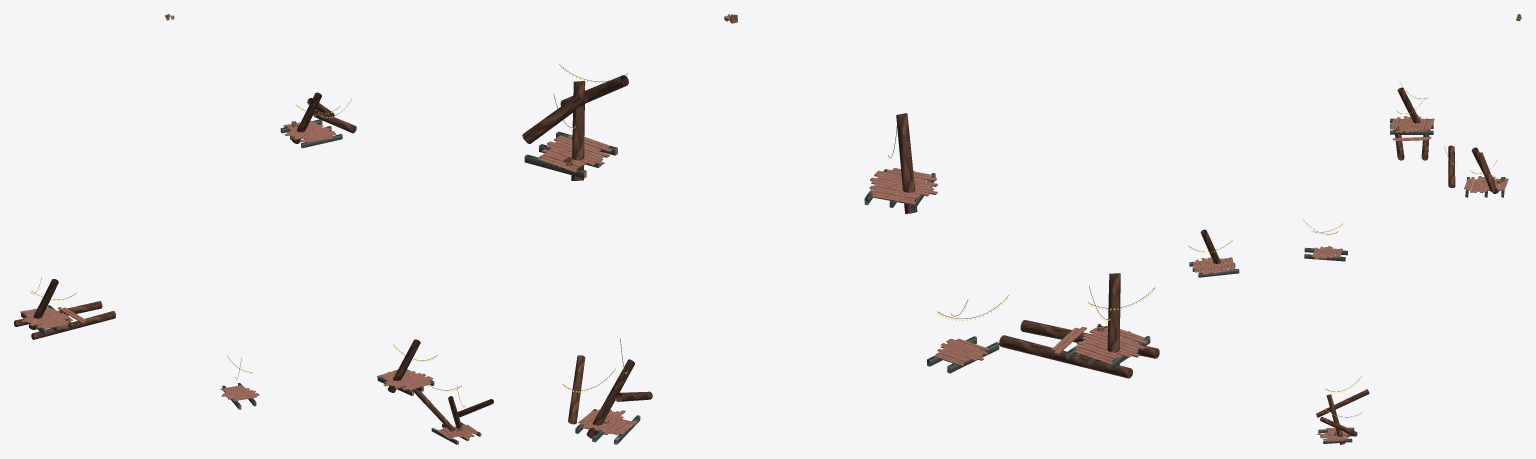
The model's file is Other.glb.
3 views of the same model, side by side, from view 1: azimuth 30°, elevation 25°; view 2: azimuth 150°, elevation 25°; view 3: azimuth 270°, elevation 25° (orthographic). The views are drawn at different scales.
Parts seen in each view (by area): view 1: Cube.057; view 2: Cube.057; view 3: Cube.057.
Part boxes in pixels (x1,y1,x2,y2): Cube.057: [14, 14, 493, 444]; Cube.057: [522, 14, 1159, 444]; Cube.057: [1189, 14, 1521, 444].
Size of the model in its own units: 149 by 134 by 116.
Materials: 18 (7 with a texture image).
